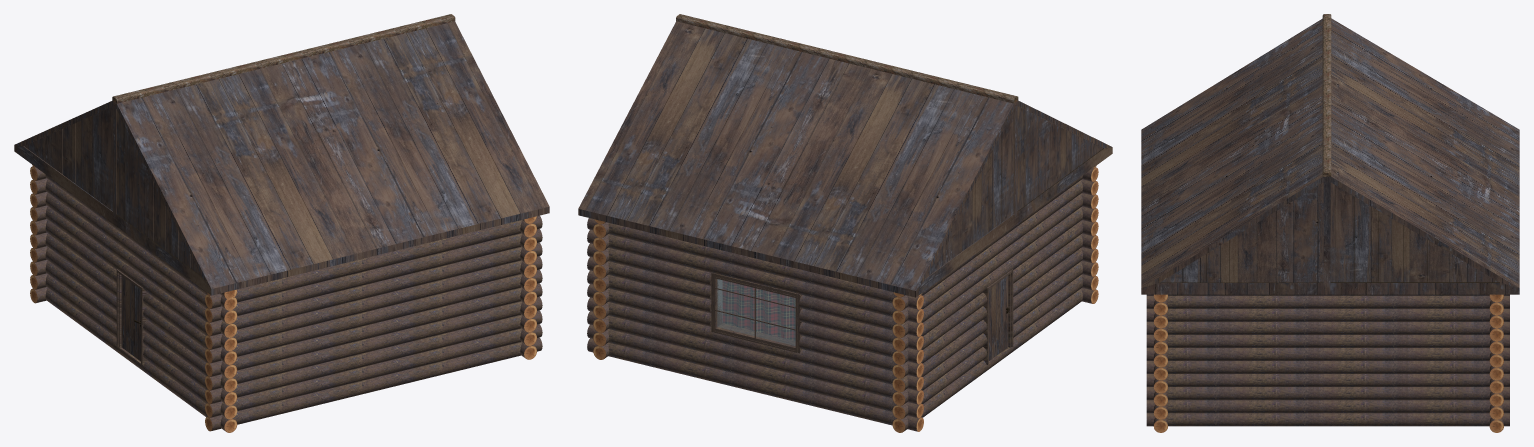
File: cabaña_final (1).fbx
3 renders of one model, left to right at view 1: azimuth 30°, elevation 25°; view 2: azimuth 150°, elevation 25°; view 3: azimuth 270°, elevation 25°, orthographic. The views are drawn at different scales.
Visible parts, largest first — view 1: tronco, Cylinder.003, Cylinder.007, Cube.004, Cube.002, Cube.007, Cylinder.008, Cylinder.001, Puerta.002, Puerta.001; view 2: tronco, Cylinder.001, Cylinder.007, Cube.004, Cube.002, Ventana.001, Cube.007, Plane, Ventana, Cylinder.003, Cylinder.008, Puerta.002 (+1 smaller); view 3: tronco, Cylinder.008, Cube.006, Cube.005, Cylinder.001, Cylinder.003, Cube.007.
Part boxes in pixels (x1=…): tronco: x1=14, y1=21, x2=549, y2=295; Cylinder.003: x1=205, y1=215, x2=542, y2=431; Cylinder.007: x1=45, y1=175, x2=237, y2=432; Cube.004: x1=24, y1=106, x2=112, y2=210; Cube.002: x1=116, y1=110, x2=201, y2=276; Cube.007: x1=112, y1=14, x2=455, y2=103; Cylinder.008: x1=520, y1=216, x2=536, y2=359; Cylinder.001: x1=30, y1=164, x2=47, y2=303; Puerta.002: x1=121, y1=276, x2=140, y2=361; Puerta.001: x1=116, y1=269, x2=147, y2=364; tronco: x1=578, y1=21, x2=1112, y2=297; Cylinder.001: x1=587, y1=218, x2=923, y2=431; Cylinder.007: x1=892, y1=175, x2=1082, y2=432; Cube.004: x1=926, y1=110, x2=1013, y2=277; Cube.002: x1=1017, y1=106, x2=1102, y2=210; Ventana.001: x1=717, y1=279, x2=795, y2=345; Cube.007: x1=676, y1=14, x2=1018, y2=103; Plane: x1=723, y1=280, x2=795, y2=340; Ventana: x1=711, y1=272, x2=801, y2=353; Cylinder.003: x1=1081, y1=165, x2=1098, y2=303; Cylinder.008: x1=593, y1=219, x2=609, y2=359; Puerta.002: x1=989, y1=275, x2=1009, y2=360; tronco: x1=1141, y1=18, x2=1519, y2=294; Cylinder.008: x1=1146, y1=294, x2=1509, y2=426; Cube.006: x1=1330, y1=183, x2=1498, y2=282; Cube.005: x1=1160, y1=182, x2=1323, y2=282; Cylinder.001: x1=1489, y1=294, x2=1503, y2=432; Cylinder.003: x1=1153, y1=294, x2=1167, y2=432; Cube.007: x1=1322, y1=14, x2=1331, y2=176.
Bounding box in the file's own units: 1347 × 1033 × 1359.
Materials: 11 (9 with a texture image).
